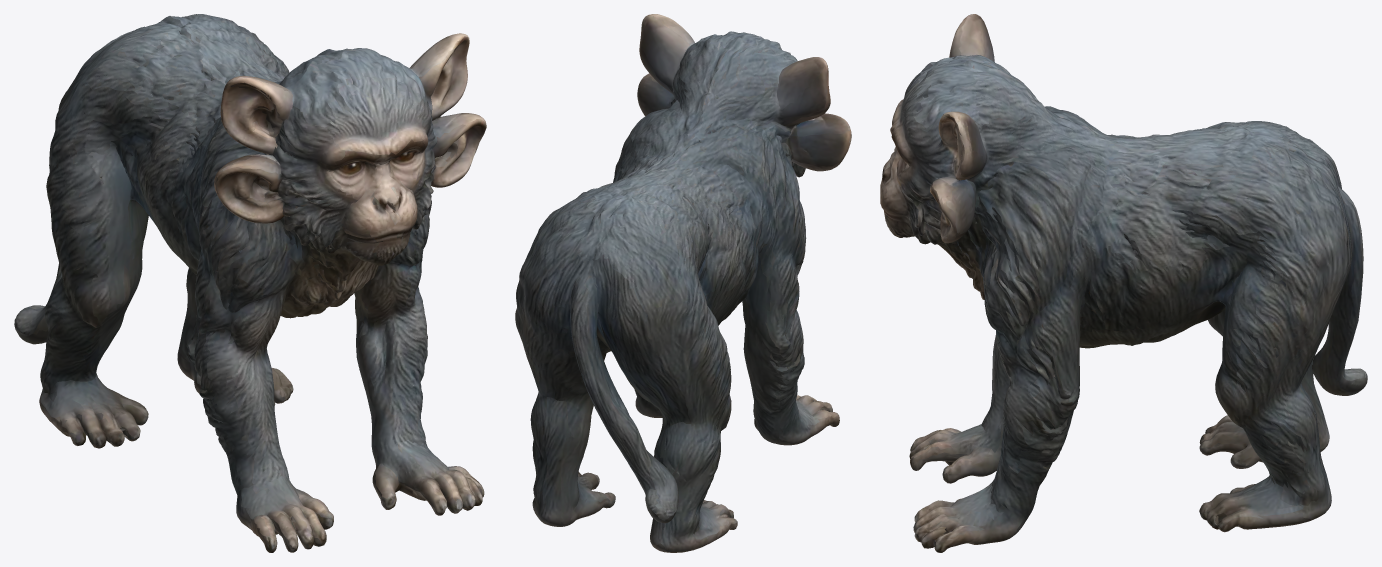
The model's file is changyou.glb.
3 views of the same model, side by side, from view 1: azimuth 30°, elevation 25°; view 2: azimuth 150°, elevation 25°; view 3: azimuth 270°, elevation 25° (orthographic). The views are drawn at different scales.
Parts seen in each view (by area): view 1: geometry_0; view 2: geometry_0; view 3: geometry_0.
Boxes of the visible parts, bbox=[...] form: geometry_0: bbox=[14, 14, 486, 552]; geometry_0: bbox=[515, 14, 851, 552]; geometry_0: bbox=[880, 14, 1367, 552].
Size of the model in its own units: 0.45 by 0.7527 by 0.7605.
Materials: 1 (1 with a texture image).
